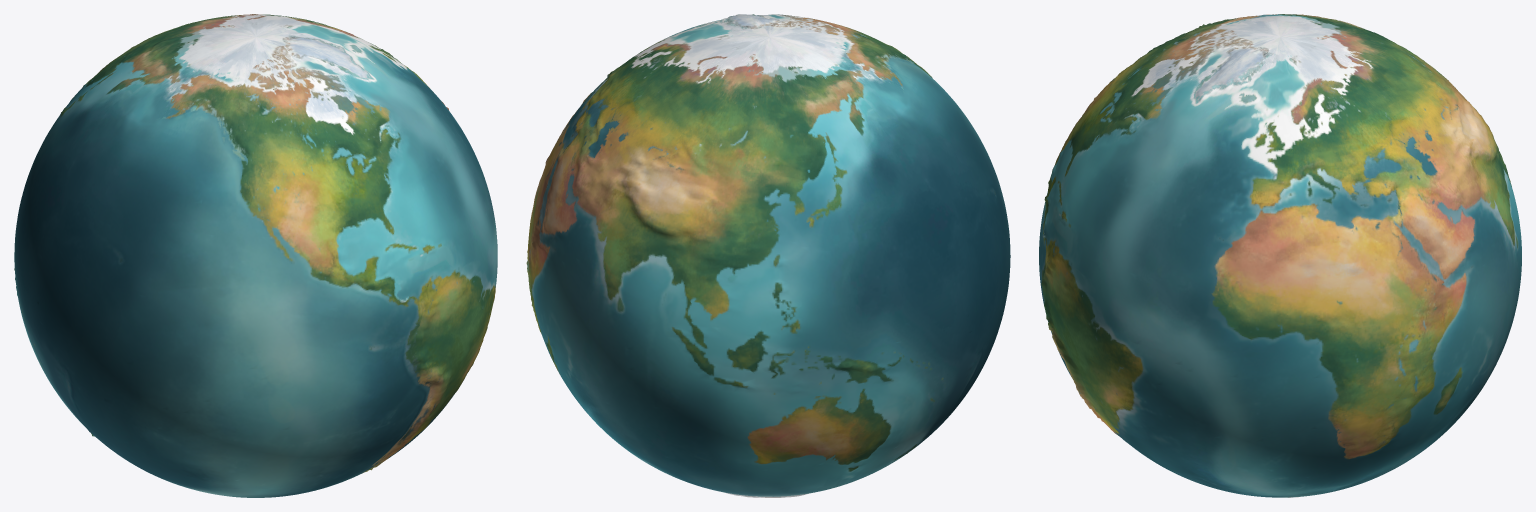
File: earth2.glb
3 renders of one model, left to right at view 1: azimuth 30°, elevation 25°; view 2: azimuth 150°, elevation 25°; view 3: azimuth 270°, elevation 25°, orthographic.
Parts seen in each view (by area): view 1: PlanetEarth; view 2: PlanetEarth; view 3: PlanetEarth.
Part boxes in pixels (<box>): PlanetEarth: <box>14,14,497,497</box>; PlanetEarth: <box>526,14,1010,497</box>; PlanetEarth: <box>1039,14,1521,497</box>.
Bounding box in the file's own units: 2.01 × 2.02 × 2.01.
1 material, 1 textured.
